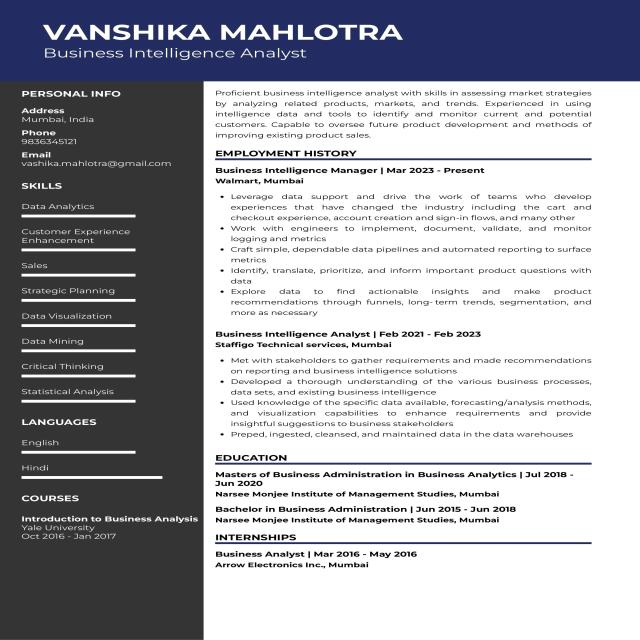contact: (14, 87, 182, 173)
education: (211, 454, 594, 532)
experience: (215, 145, 599, 444), (211, 532, 598, 592)
header: (31, 19, 408, 78)
languages: (16, 416, 174, 483)
skills: (13, 178, 177, 412)
summary: (213, 86, 602, 142)
